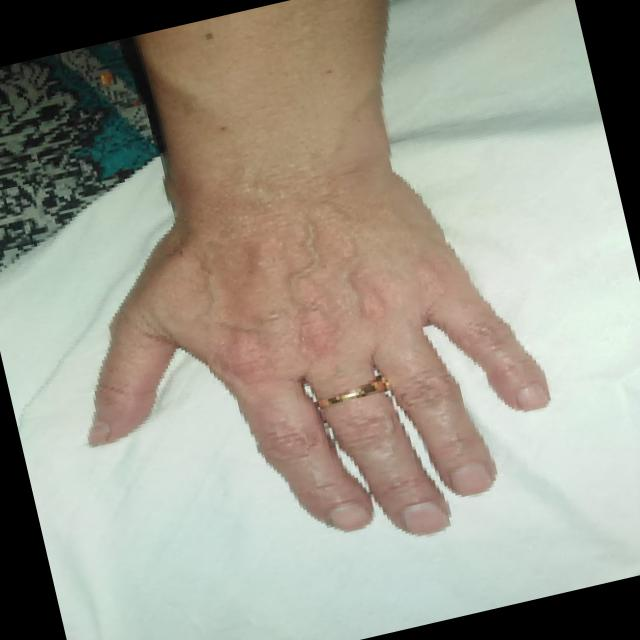Nail: (401, 502, 447, 533), (449, 462, 490, 494), (328, 500, 369, 530), (515, 381, 548, 410), (87, 420, 108, 445)
